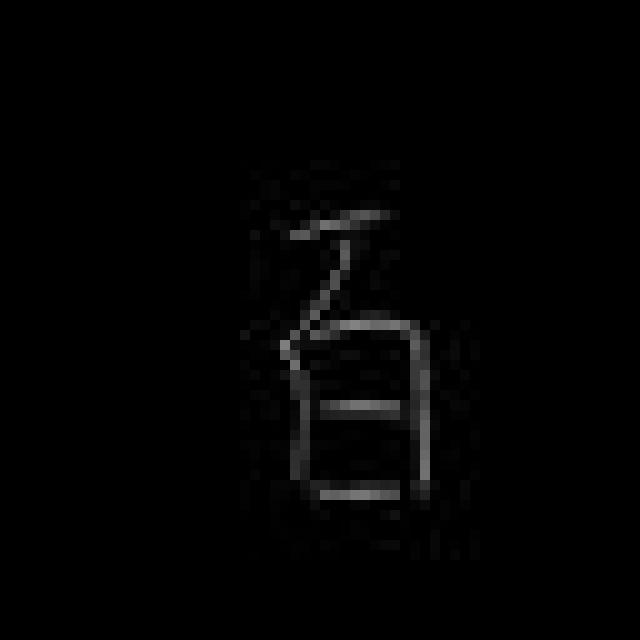100 -a hundred-: (257, 182, 458, 532)
